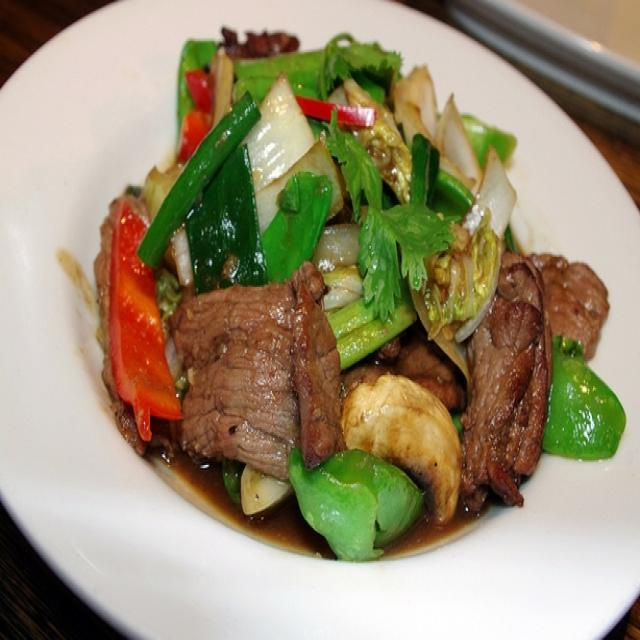牛肉菜式: (51, 26, 617, 576)
